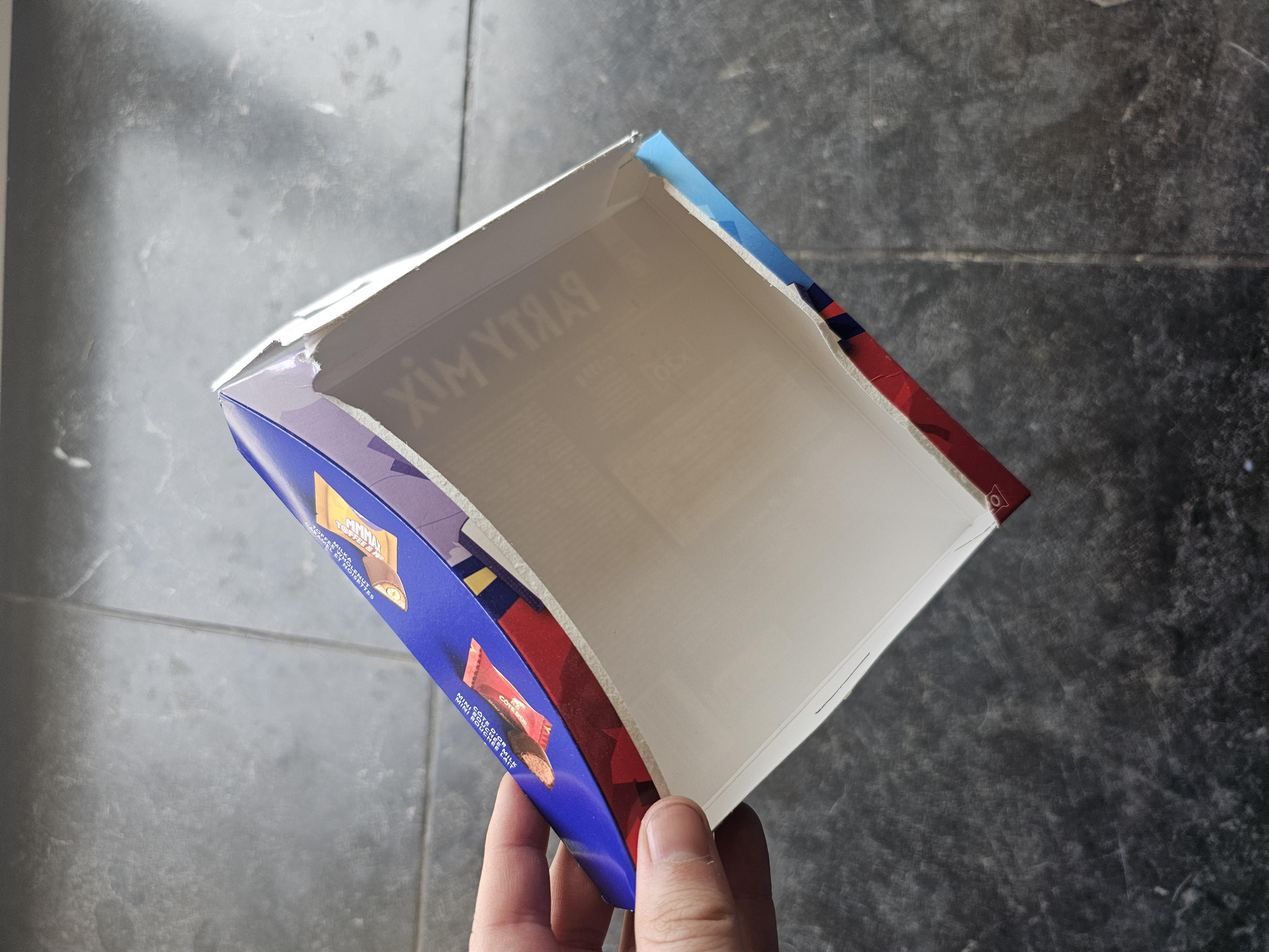Cardboard: (55, 145, 1110, 771)
